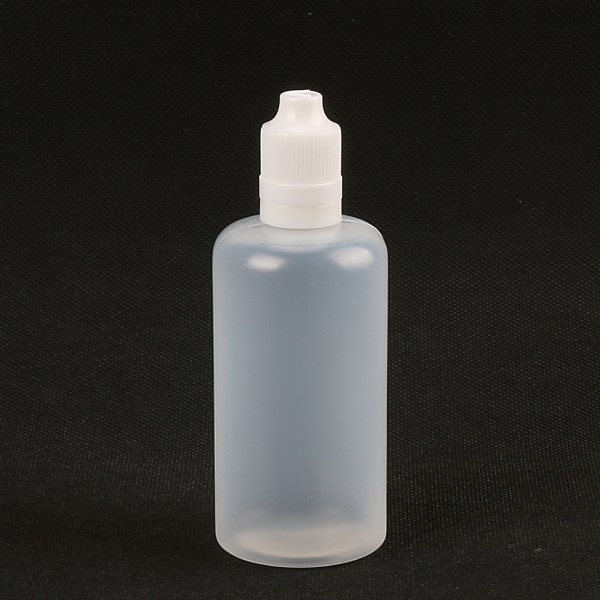emptybottle: (211, 90, 386, 568)
